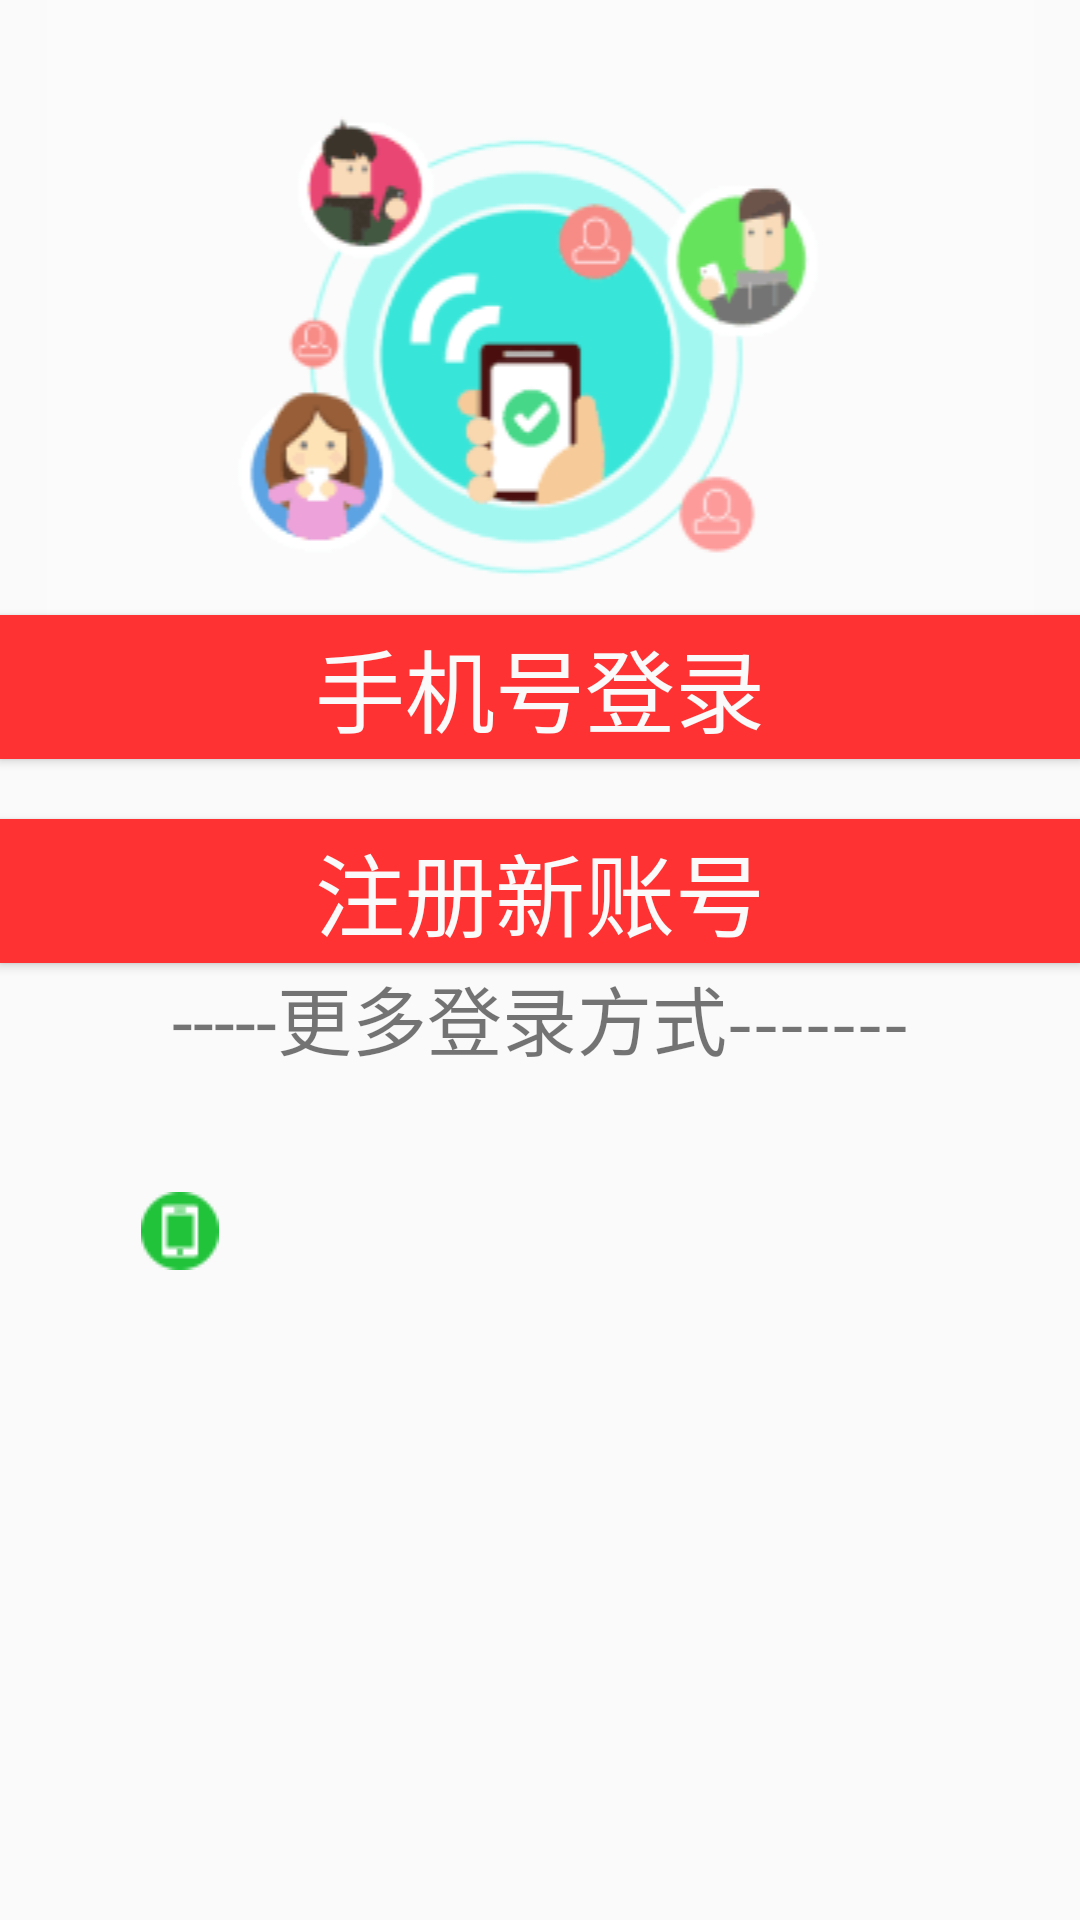

Where icons sit on this 1080*1920 app screen, as bbox=[x1, y1, x2, y2]:
account mobile: bbox=[141, 1192, 219, 1270]
